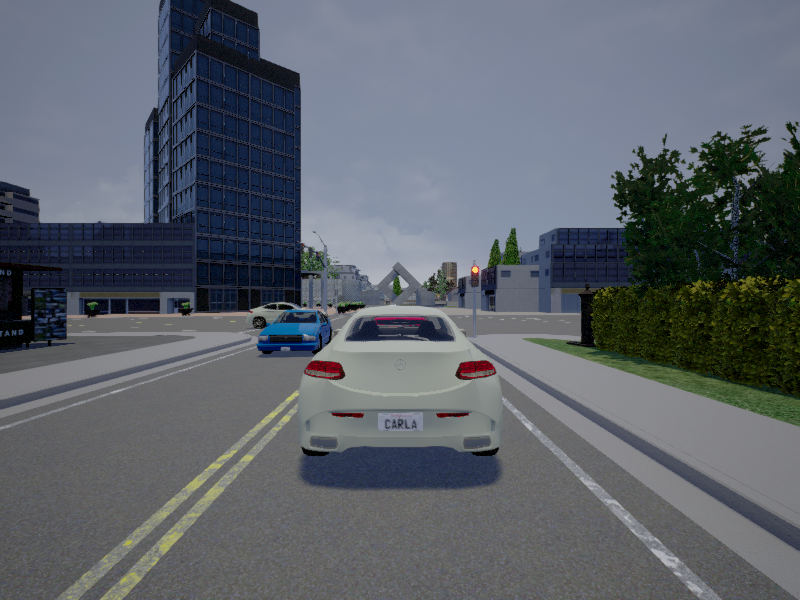Benign: (301, 306, 501, 458), (260, 311, 334, 353), (250, 299, 315, 330)
